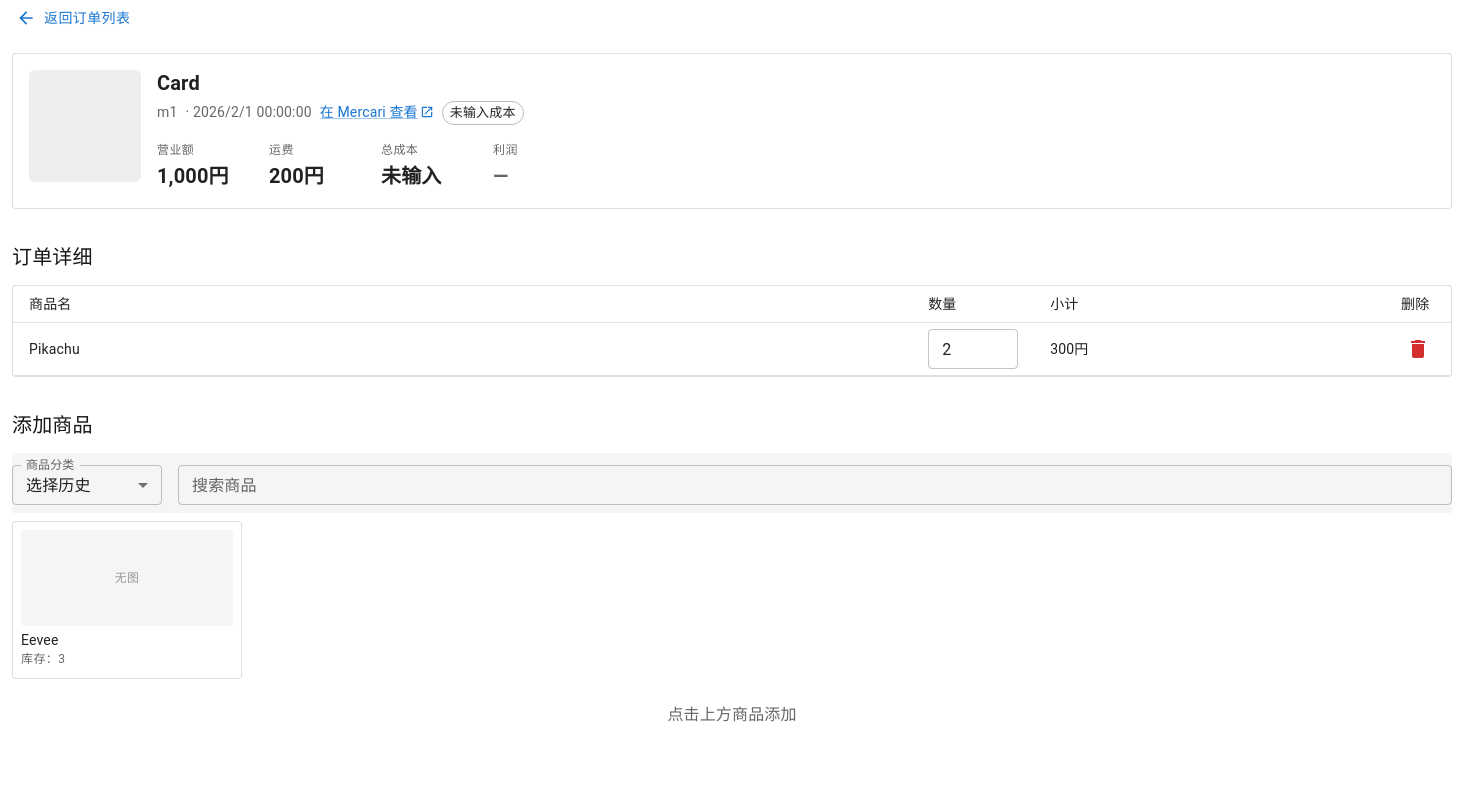
Test case: Order page › shows the API error when a delete fails and keeps the line
Expected: the heading "Card" is shown, 157,70 -> 200,94
Click the button named "删除 Pikachu" at [1418, 349], box 1401,332 -> 1435,366
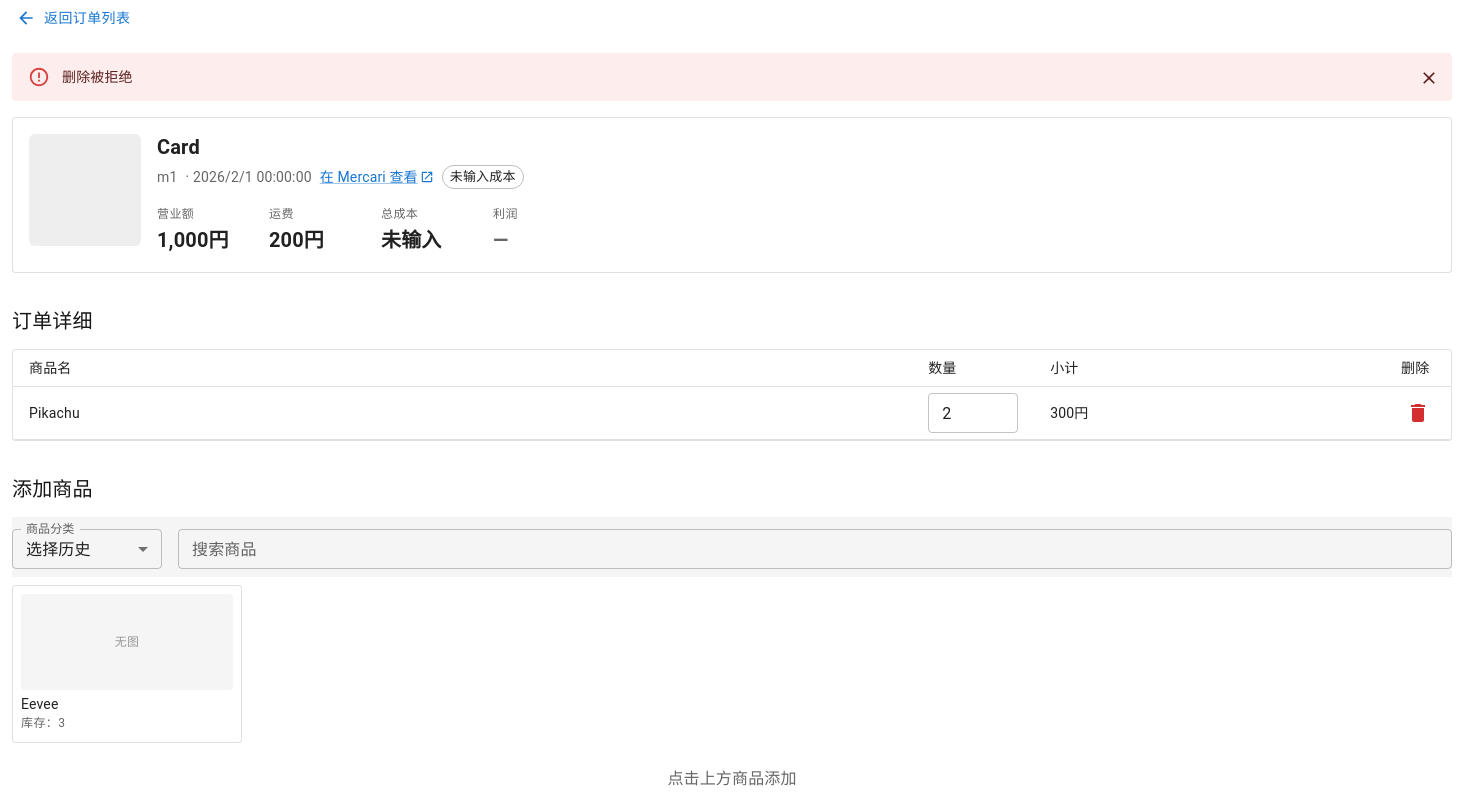
Expected: the number field named "Pikachu 数量" is shown, 928,393 -> 1018,433
Expected: the text "删除被拒绝" is shown, 62,68 -> 133,84
